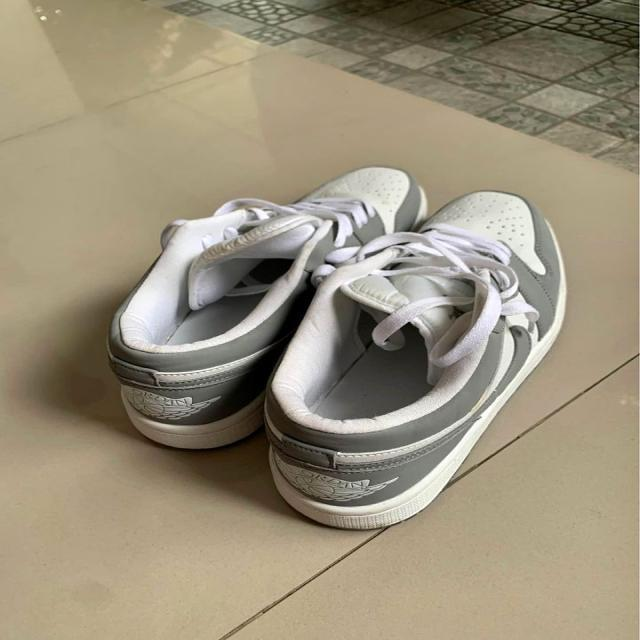nike fake jordan 1: (260, 187, 569, 556), (84, 168, 429, 454)
